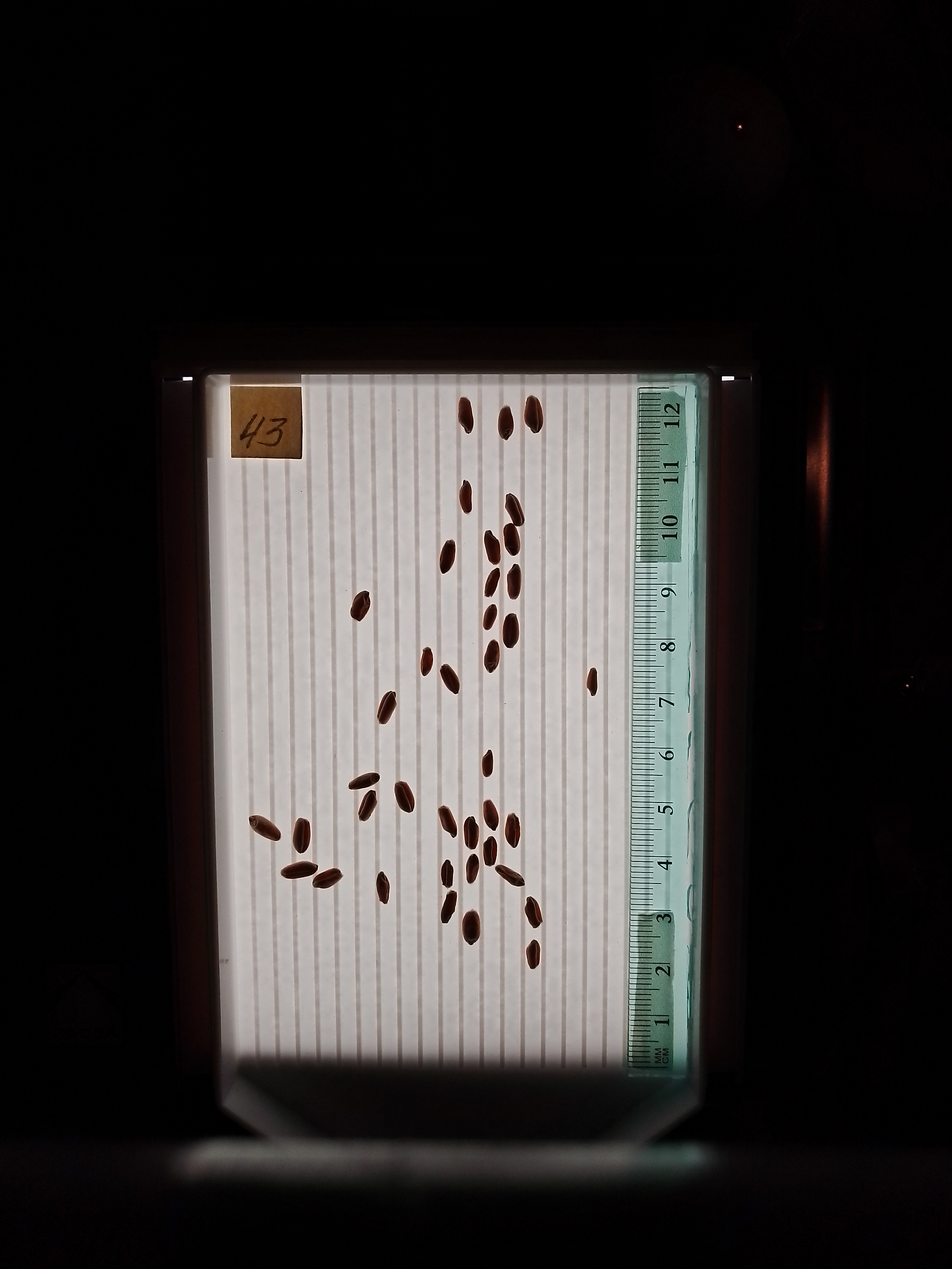seed mask: (249, 815, 281, 841), (524, 397, 543, 432), (293, 819, 311, 853), (313, 869, 342, 890), (377, 692, 396, 724), (395, 782, 415, 812), (282, 862, 317, 879), (351, 592, 371, 621), (506, 494, 524, 526), (462, 912, 480, 944), (349, 772, 379, 791), (358, 791, 377, 821), (458, 398, 474, 433), (497, 865, 523, 886), (484, 531, 501, 563), (440, 665, 459, 693), (503, 615, 519, 648), (439, 806, 457, 835), (504, 524, 520, 555), (525, 898, 542, 927), (440, 541, 455, 573), (441, 892, 457, 922), (484, 641, 499, 672), (483, 800, 499, 829), (459, 481, 473, 514), (507, 565, 521, 598), (506, 814, 520, 847), (499, 407, 513, 439), (464, 817, 478, 849), (376, 873, 390, 904), (483, 838, 497, 866), (527, 941, 541, 969), (484, 569, 499, 595), (420, 648, 433, 675), (466, 855, 478, 883), (484, 605, 497, 629), (482, 751, 494, 776), (441, 862, 453, 886), (587, 669, 598, 694)
